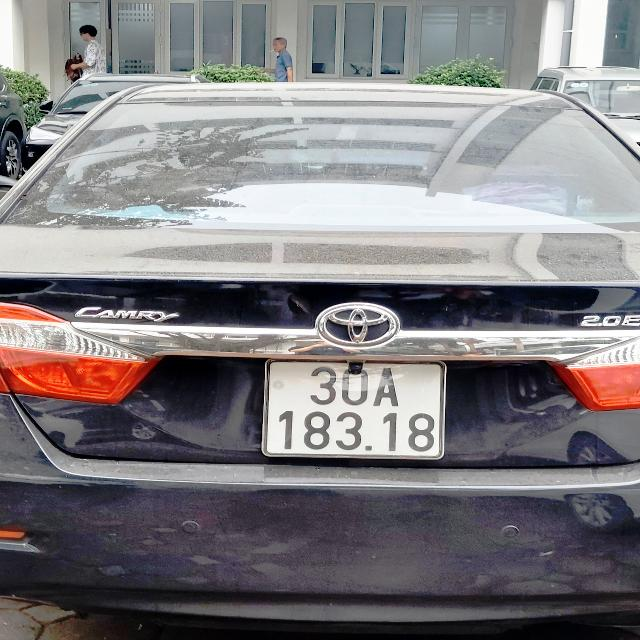license_plate: (265, 360, 446, 457)
